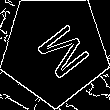M_SW: (22, 16, 87, 83)
